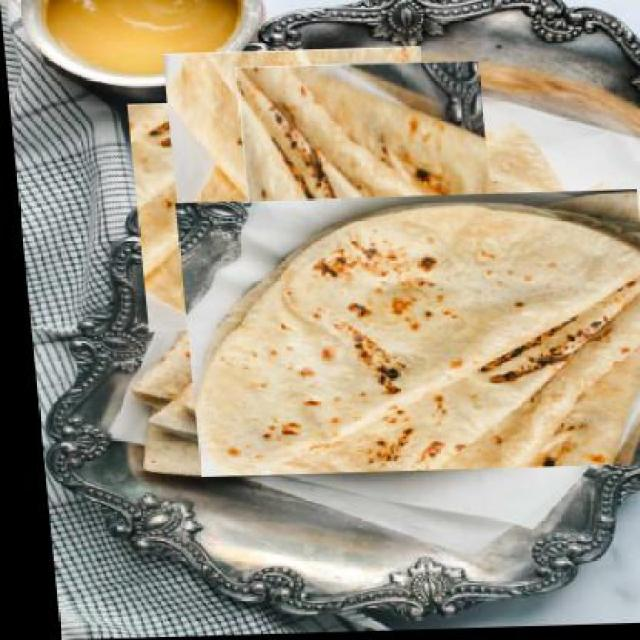chapati: (170, 193, 638, 482), (201, 96, 539, 418), (137, 76, 474, 396), (124, 100, 376, 334)
